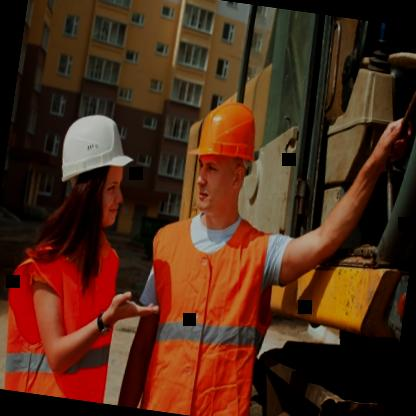helmet: (36, 92, 143, 251), (177, 78, 276, 233)
